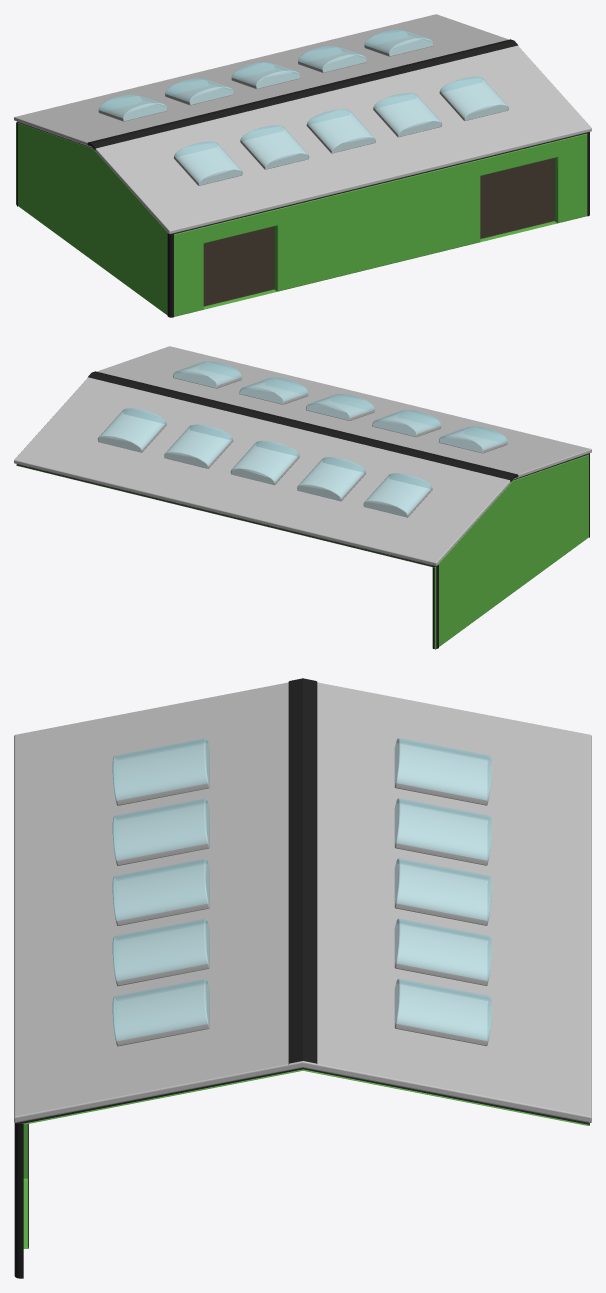
Rendered from Hala.glb.
The picture shows the model from 3 angles, top to bottom: view 1: azimuth 30°, elevation 25°; view 2: azimuth 150°, elevation 25°; view 3: azimuth 270°, elevation 25°; orthographic projection. The views are drawn at different scales.
Parts seen in each view (by area): view 1: Cube.390, Cylinder.048, Cylinder.049, Cube.391; view 2: Cube.390, Cylinder.049, Cylinder.048, Cube.391; view 3: Cube.390, Cylinder.049, Cylinder.048, Cube.391.
Boxes of the visible parts, x1,y1,x2,y2 form: Cube.390: (14, 14, 591, 316); Cylinder.048: (173, 76, 508, 185); Cylinder.049: (98, 29, 433, 121); Cube.391: (16, 121, 589, 317); Cube.390: (14, 346, 591, 649); Cylinder.049: (97, 408, 432, 517); Cylinder.048: (173, 361, 507, 453); Cube.391: (432, 453, 589, 648); Cube.390: (14, 678, 591, 1248); Cylinder.049: (394, 738, 491, 1046); Cylinder.048: (112, 738, 209, 1046); Cube.391: (14, 1123, 23, 1278).
Bounding box in the file's own units: 2.33 × 0.6254 × 1.49.
